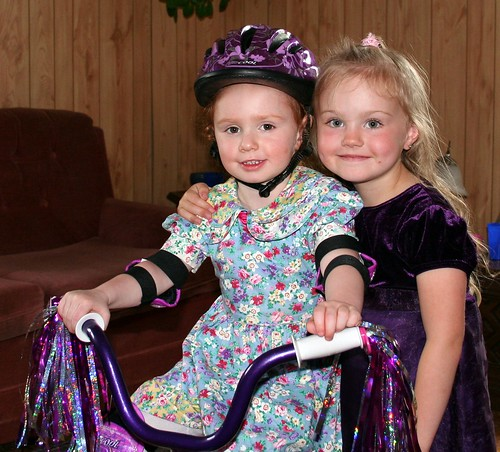helmet: (185, 19, 314, 87)
